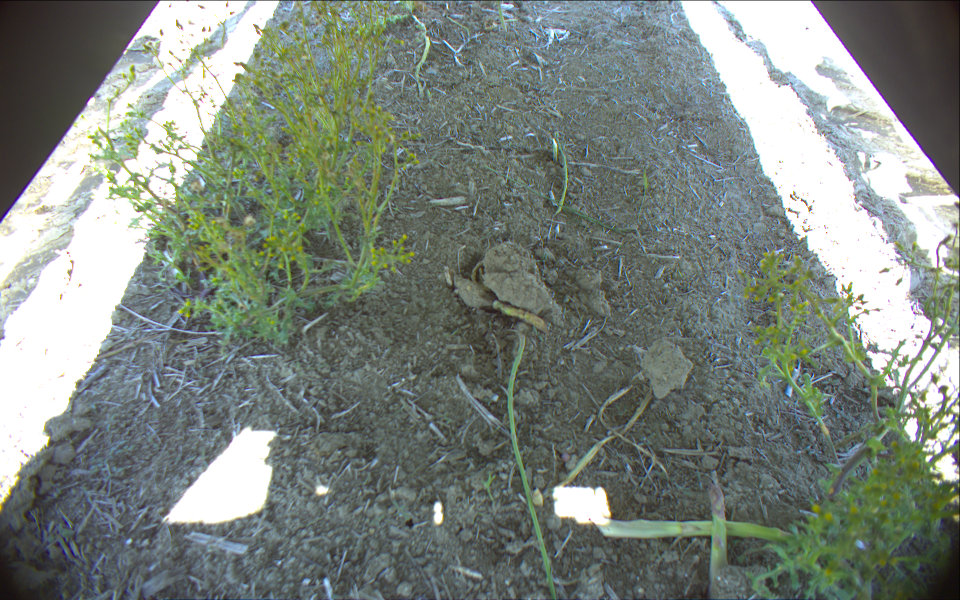aspa: (700, 479, 732, 600)
